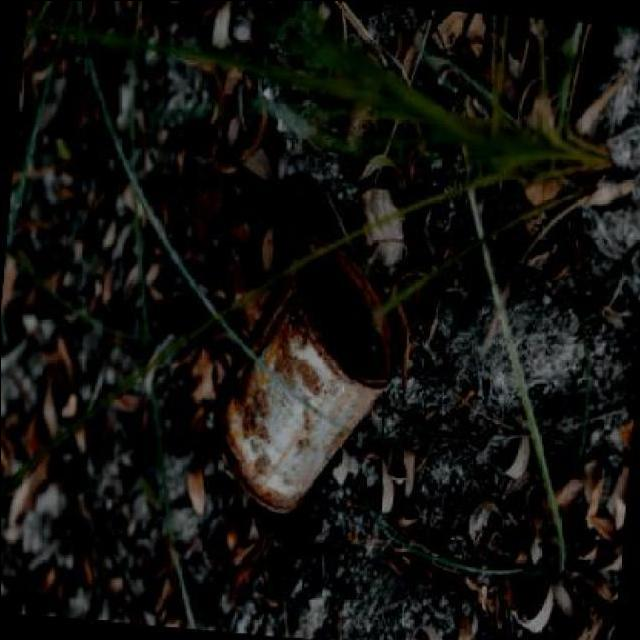can: (195, 229, 411, 537)
